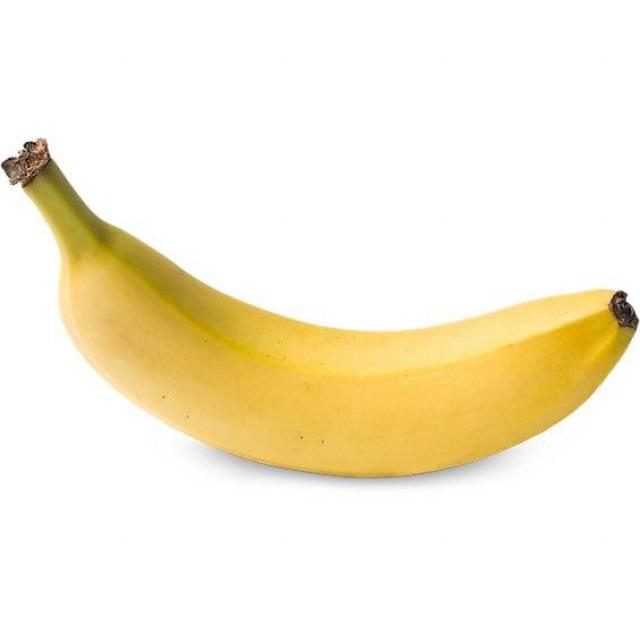banana: (2, 132, 636, 486)
